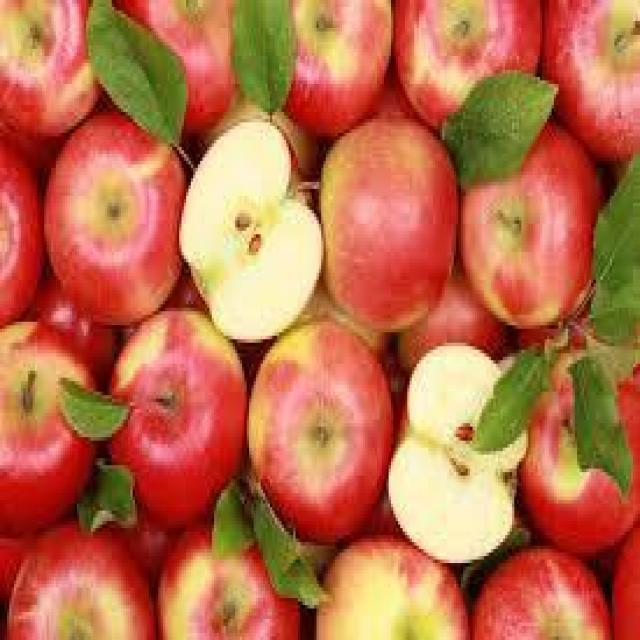Fresh Apple: (242, 323, 400, 545), (453, 123, 612, 335), (38, 118, 198, 325), (302, 128, 453, 338), (102, 316, 235, 522), (518, 346, 640, 551), (0, 310, 95, 537), (383, 2, 542, 133), (255, 0, 407, 125), (98, 0, 243, 116), (540, 0, 640, 166), (16, 516, 148, 640), (466, 551, 640, 640), (150, 535, 293, 640), (319, 546, 463, 640), (0, 0, 103, 131)
